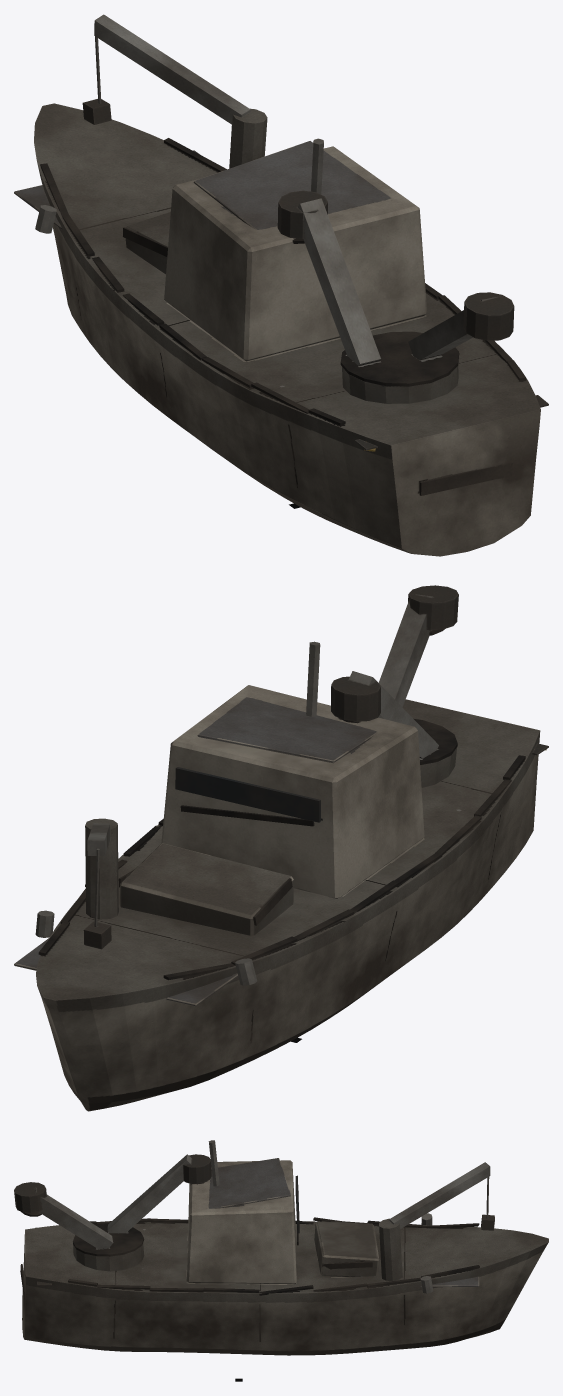
Rendered from ord_harbormaster_wreck.fbx.
3 renders of one model, top to bottom at view 1: azimuth 30°, elevation 25°; view 2: azimuth 150°, elevation 25°; view 3: azimuth 270°, elevation 25°, orthographic. The views are drawn at different scales.
Visible parts, largest first — view 1: base_bar, nano_bar; view 2: base_bar, nano_bar; view 3: base_bar, nano_bar.
Boxes of the visible parts, <box> form: base_bar: <box>14,14,548,556</box>; nano_bar: <box>277,190,514,403</box>; base_bar: <box>14,641,548,1111</box>; nano_bar: <box>331,585,458,787</box>; base_bar: <box>20,1140,548,1355</box>; nano_bar: <box>14,1154,211,1271</box>.
Size of the model in its own units: 489 by 724 by 1468.
Materials: 2 (2 with a texture image).
